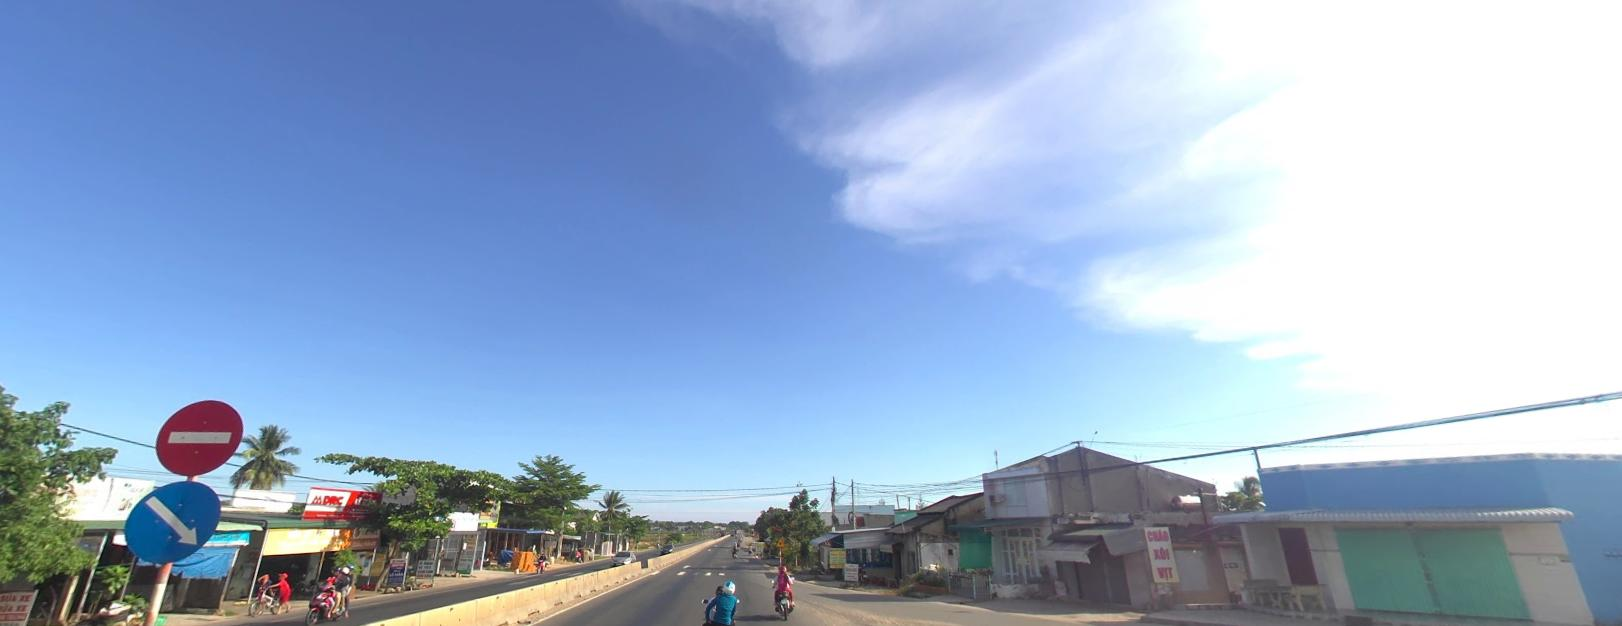Cam nguoc chieu: (151, 395, 244, 475)
Hieu lenh: (117, 478, 221, 565)
Nguy hiem: (775, 537, 786, 548)
